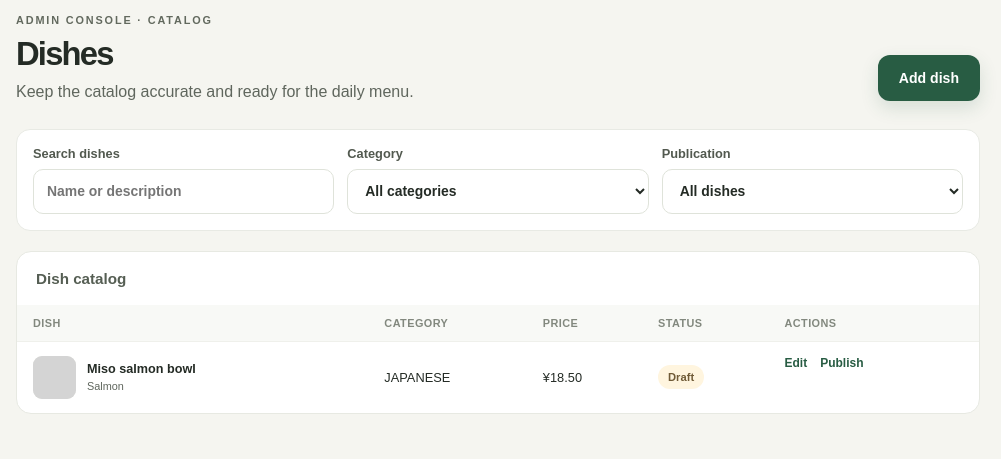
it: Admin catalog › loads server-paged dishes and publishes with the expected version
Expected: the text "Miso salmon bowl" is shown, [87,362,196,376]
Click the button with aria-label "Publish Miso salmon bowl".
click(842, 363)  # box [820,356,864,370]
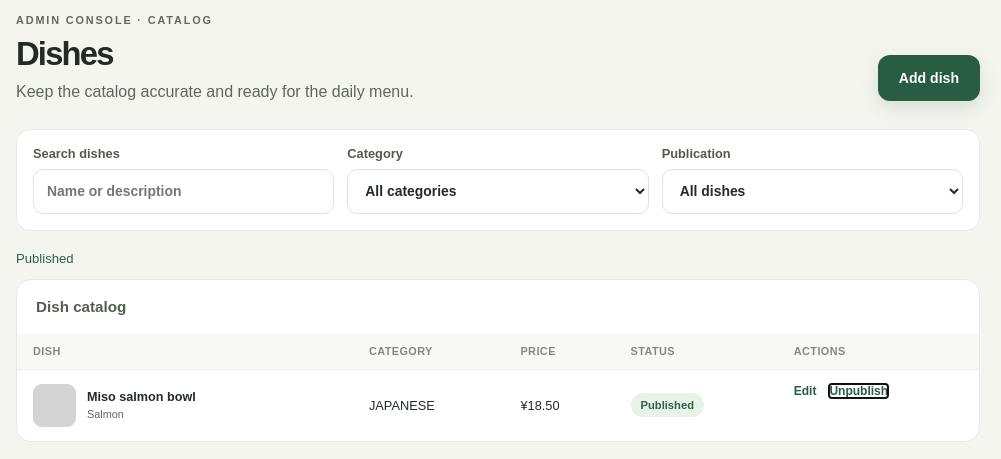
Expected: the text "Published" is shown, [630,393,704,417]
